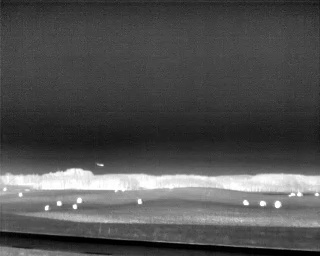AIRPLANE: (94, 160, 106, 169)
